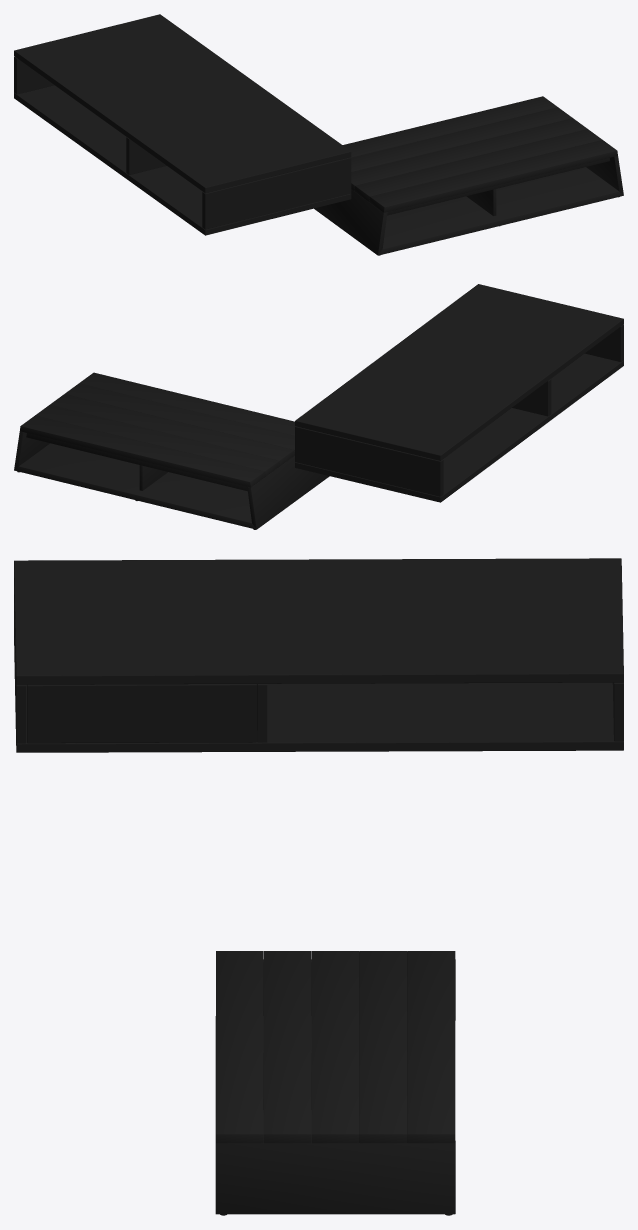
Rendered from MueblesSala.obj.
The picture shows the model from 3 angles, top to bottom: view 1: azimuth 30°, elevation 25°; view 2: azimuth 150°, elevation 25°; view 3: azimuth 270°, elevation 25°; orthographic projection. The views are drawn at different scales.
Parts seen in each view (by area): view 1: TopFrame, Wooden_Table.1; view 2: TopFrame, Wooden_Table.1; view 3: TopFrame, Wooden_Table.1.
Boxes of the visible parts, bbox=[...] form: TopFrame: bbox=[14, 14, 351, 235]; Wooden_Table.1: bbox=[314, 96, 623, 255]; TopFrame: bbox=[295, 284, 623, 502]; Wooden_Table.1: bbox=[14, 372, 329, 529]; TopFrame: bbox=[14, 558, 623, 752]; Wooden_Table.1: bbox=[215, 951, 455, 1215].
Bounding box in the file's own units: 14.22 × 4.84 × 9.63.
Materials: 1 (1 with a texture image).
